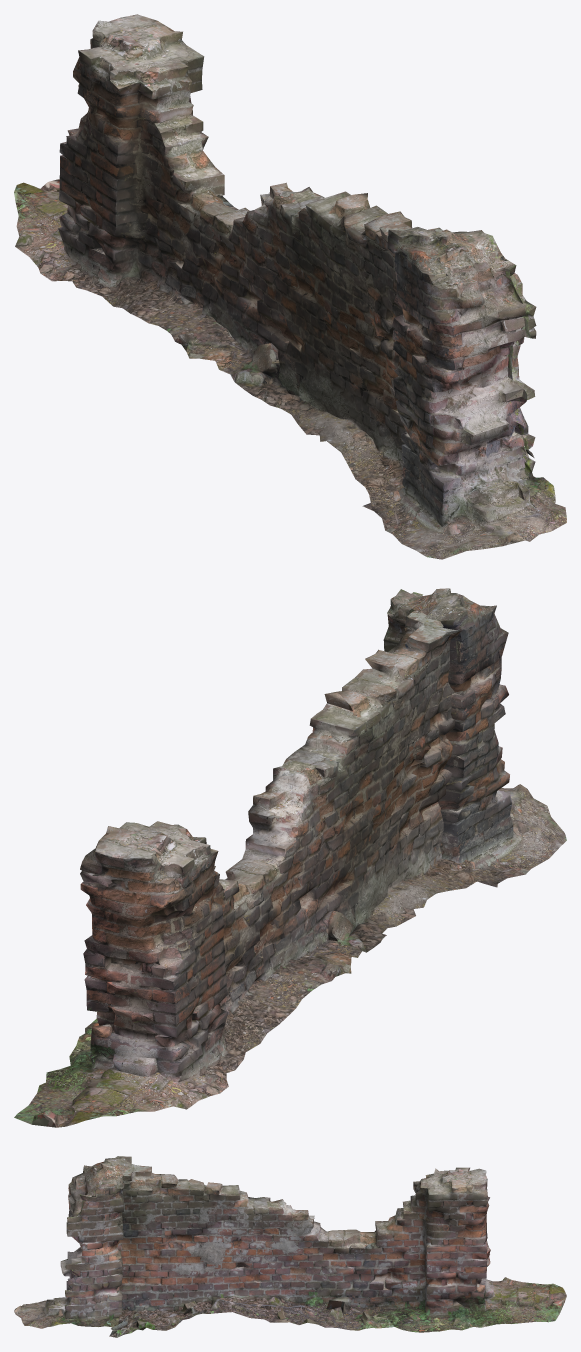
File: SM_Fence_01_03.fbx
3 views of the same model, one above another, from view 1: azimuth 30°, elevation 25°; view 2: azimuth 150°, elevation 25°; view 3: azimuth 270°, elevation 25° (orthographic). The views are drawn at different scales.
Parts seen in each view (by area): view 1: sm_Fence_01_03_LOD0; view 2: sm_Fence_01_03_LOD0; view 3: sm_Fence_01_03_LOD0.
Part boxes in pixels (<box>): sm_Fence_01_03_LOD0: <box>14,14,566,559</box>; sm_Fence_01_03_LOD0: <box>14,588,566,1127</box>; sm_Fence_01_03_LOD0: <box>14,1156,566,1337</box>.
Size of the model in its own units: 633 by 146 by 201.
